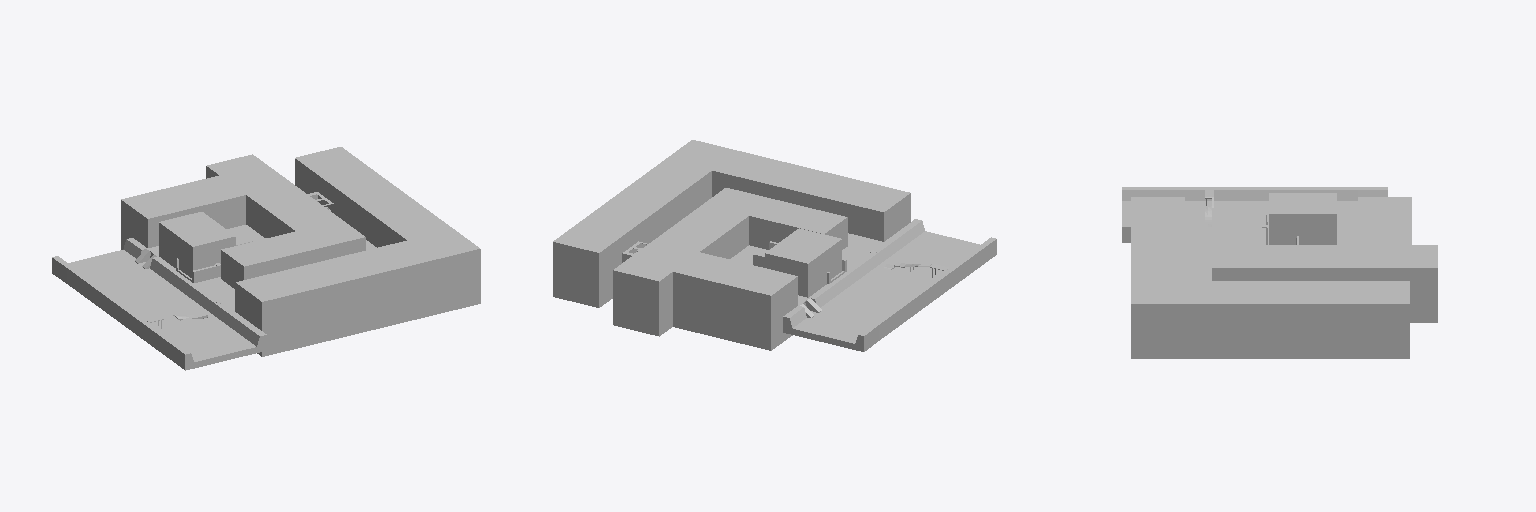
The model's file is SIUDA_CANAL.obj.
3 renders of one model, left to right at view 1: azimuth 30°, elevation 25°; view 2: azimuth 150°, elevation 25°; view 3: azimuth 270°, elevation 25°, orthographic.
Visible parts, largest first — view 1: Cube.006; view 2: Cube.006; view 3: Cube.006.
Boxes of the visible parts, x1,y1,x2,y2 form: Cube.006: [52, 147, 480, 370]; Cube.006: [553, 140, 996, 351]; Cube.006: [1122, 187, 1437, 358].
Bounding box in the file's own units: 316 × 60.13 × 289.